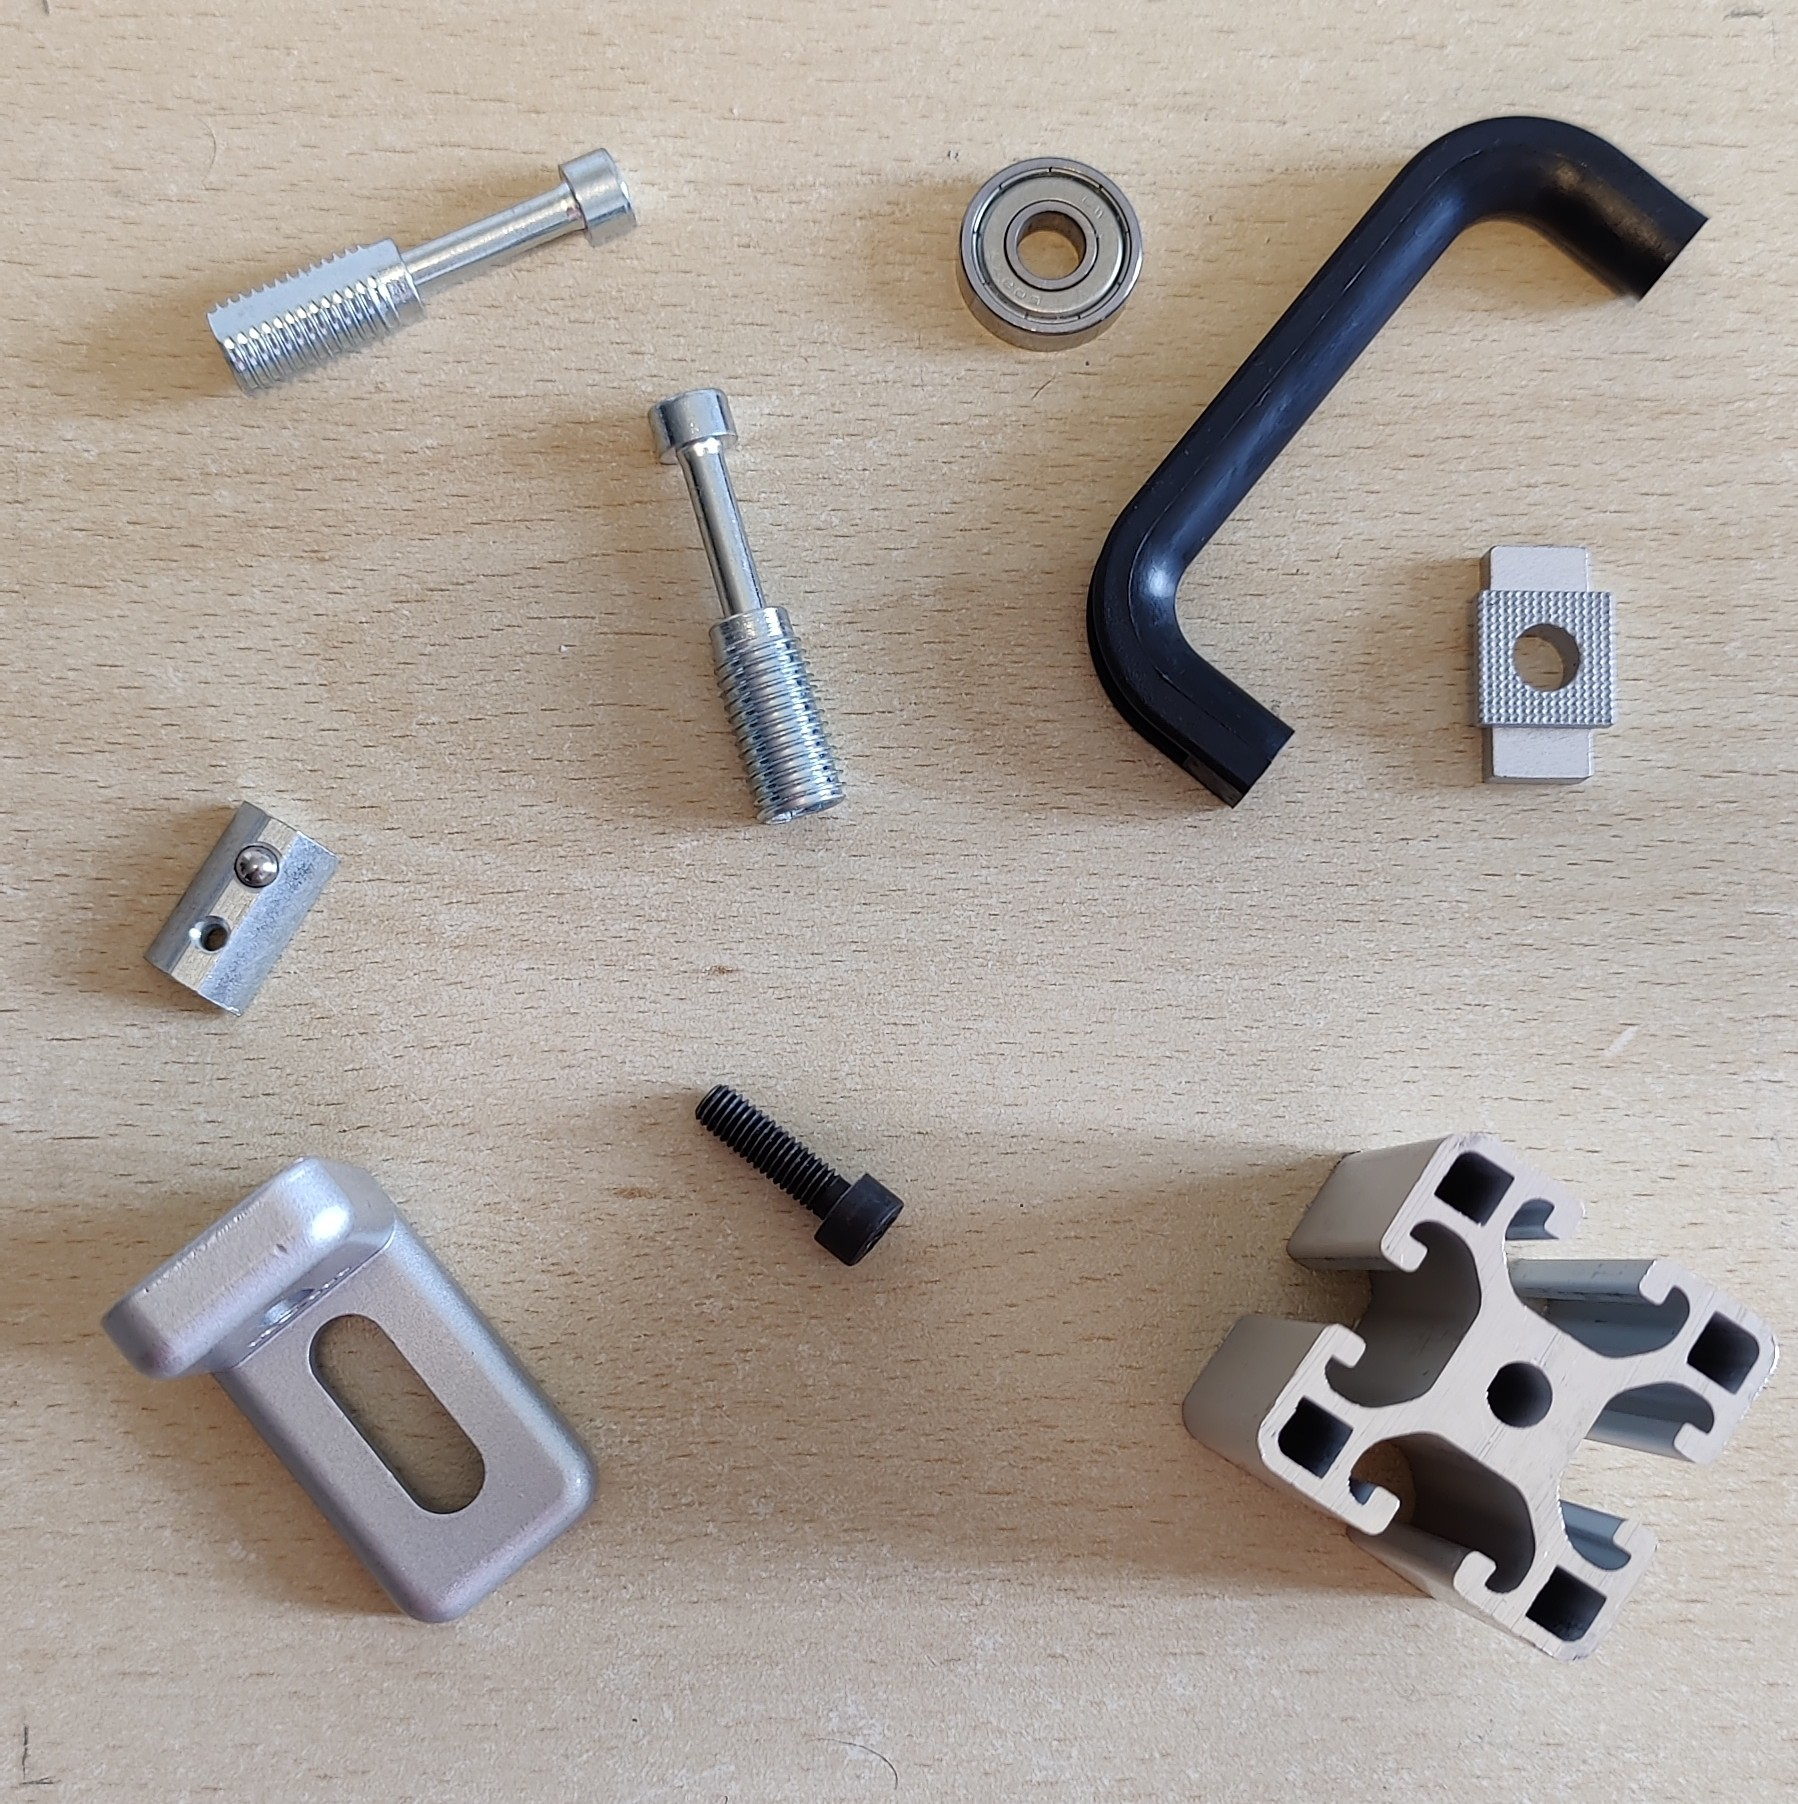Aluminium Extension: (1181, 1127, 1782, 1666)
Ball Bearing: (953, 155, 1144, 356)
Multiwinkel: (95, 1152, 603, 1626)
Pull Handle: (1082, 112, 1711, 810)
Shoulder Socket Head Cap Screw: (204, 138, 640, 400), (640, 384, 851, 826)
Socket Head Cap Screw: (688, 1080, 907, 1271)
T Nut Square: (1462, 545, 1619, 790)
T Spring Nut: (143, 797, 344, 1022)
